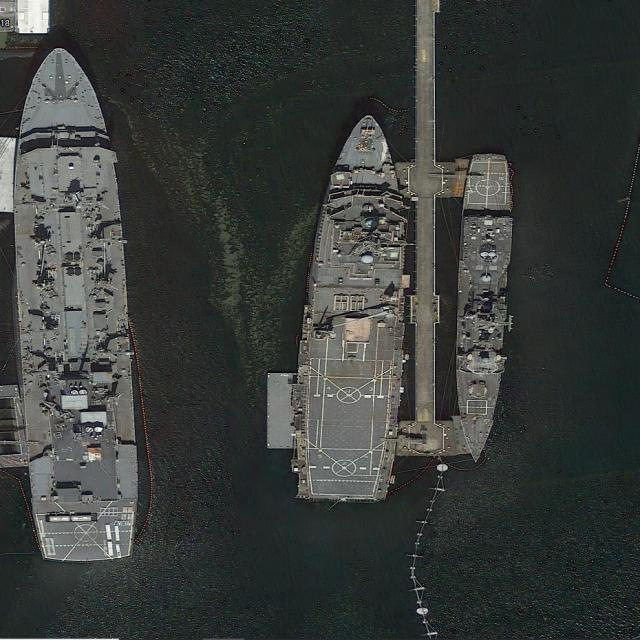Auxiliary Ships: (7, 39, 143, 567)
Dock: (416, 3, 435, 421)
Frigate: (448, 153, 514, 466)
Landing: (288, 109, 418, 507)
